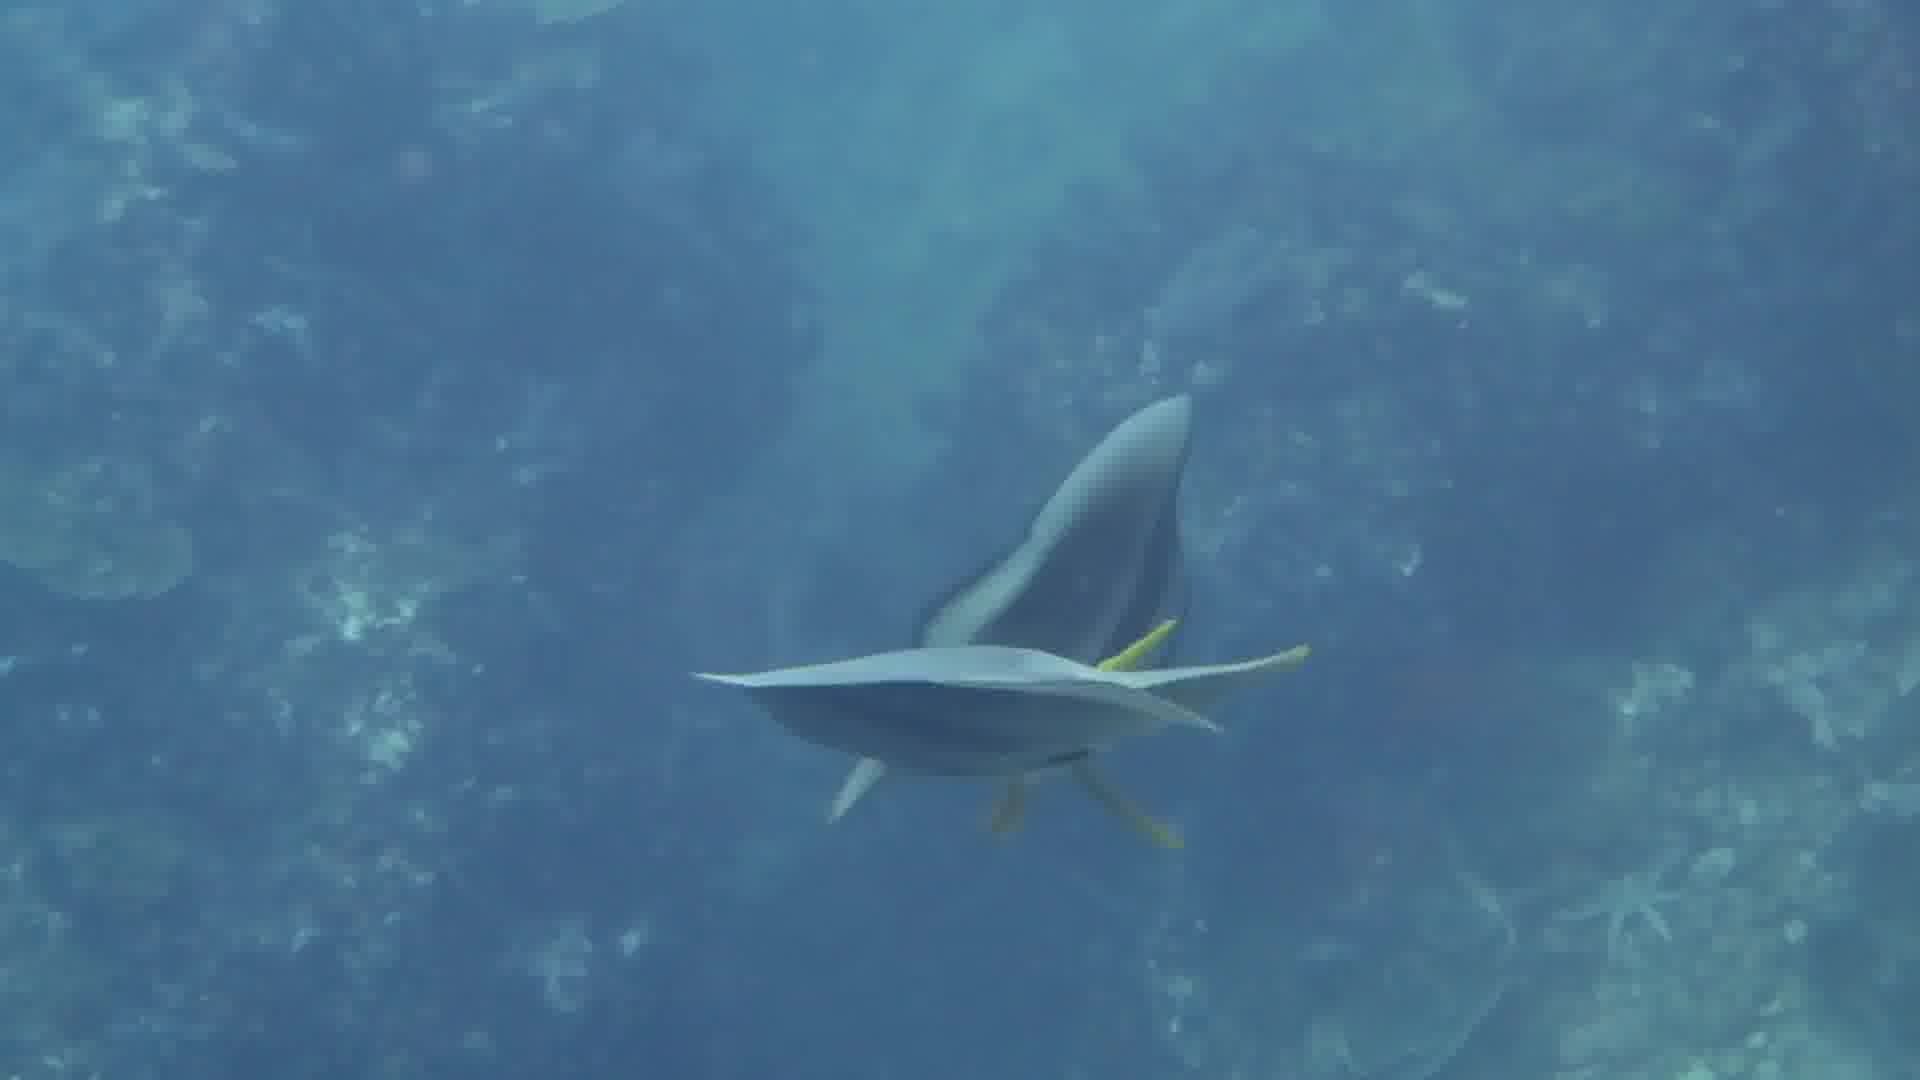Platax teira: (709, 589, 1203, 928)
